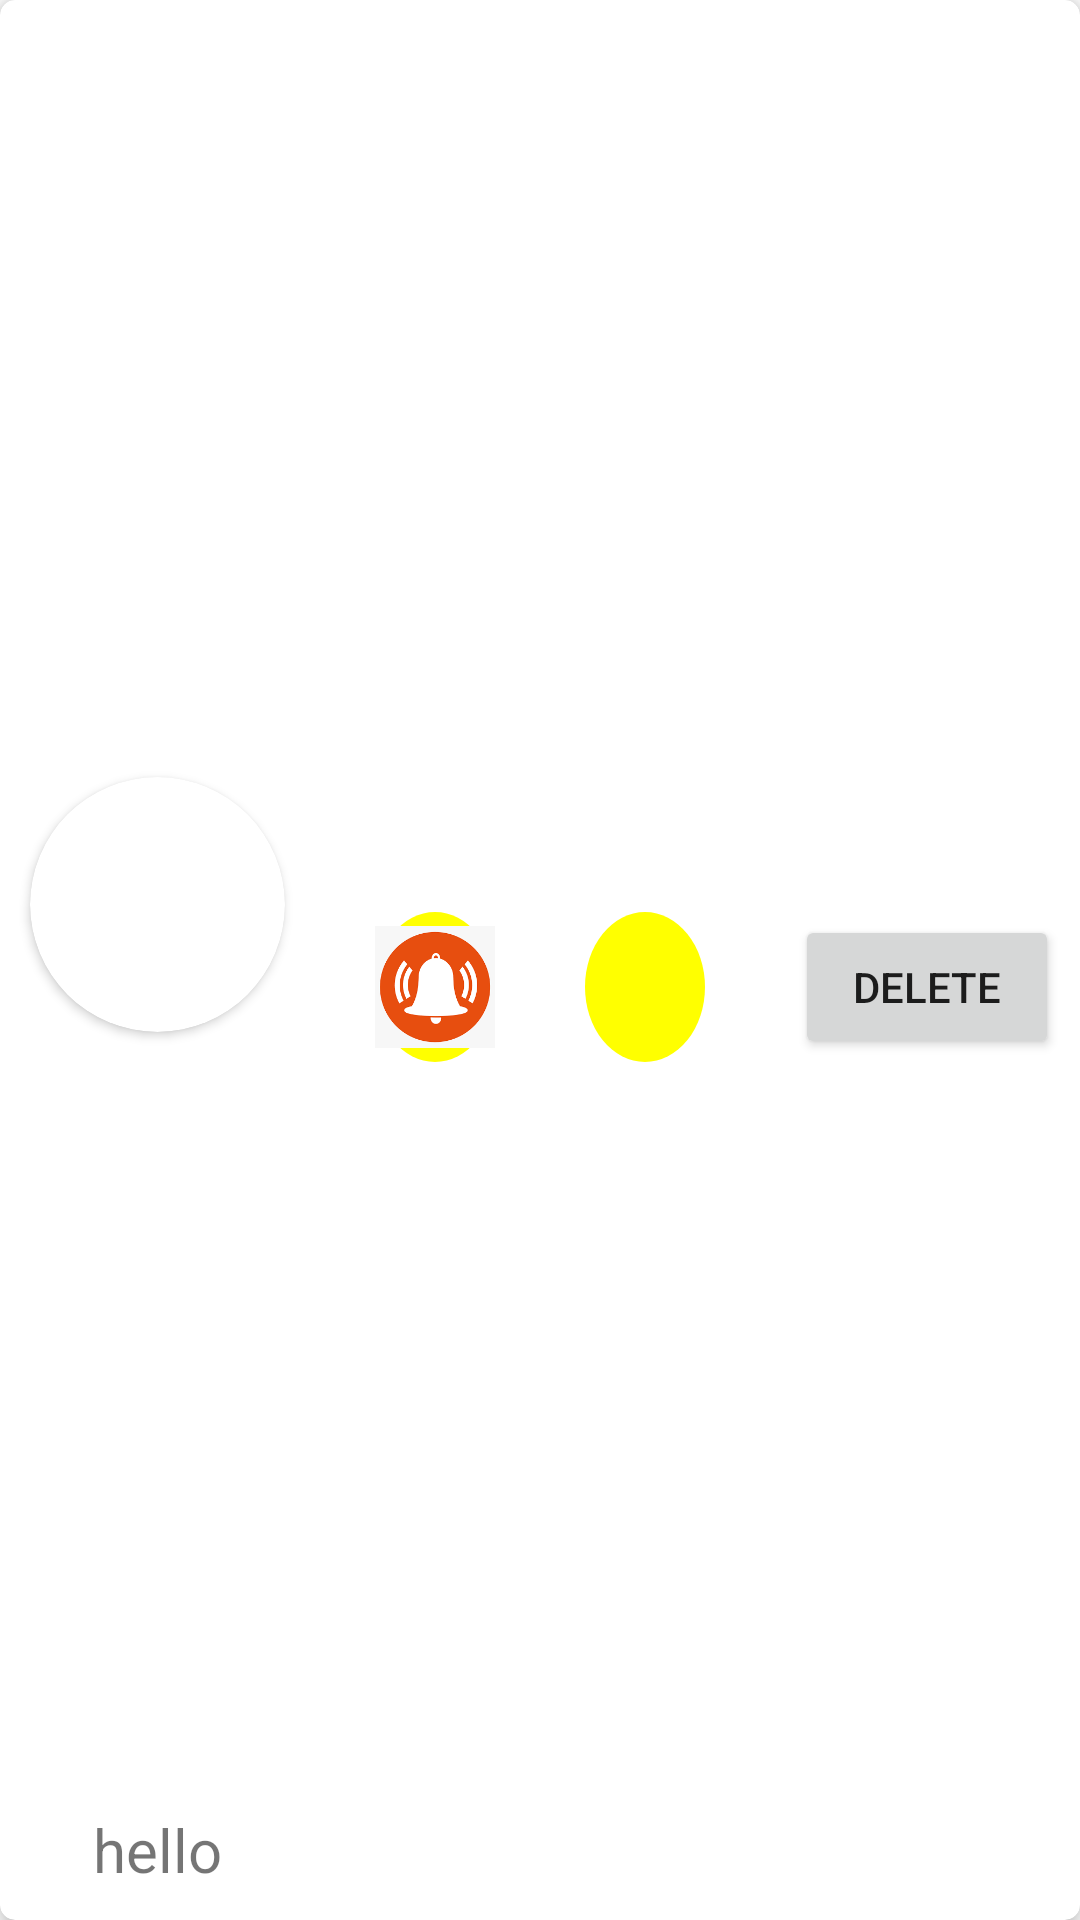

Icon bounding boxes for this 1080*1920 phone screenshot, format (x1, y1, x2, y2):
alert: (380, 912, 490, 1062)
